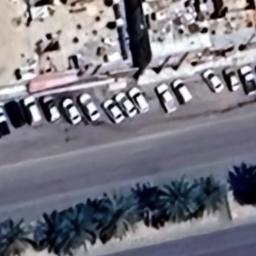sedan: (76, 92, 102, 122), (100, 97, 126, 126), (128, 83, 150, 116), (114, 92, 138, 120), (62, 97, 82, 127), (202, 69, 224, 95), (224, 66, 240, 93)
truck: (156, 82, 180, 118), (238, 60, 255, 97)
unknown: (40, 92, 62, 123), (4, 99, 26, 128)
van: (20, 96, 46, 126), (172, 74, 194, 106)
